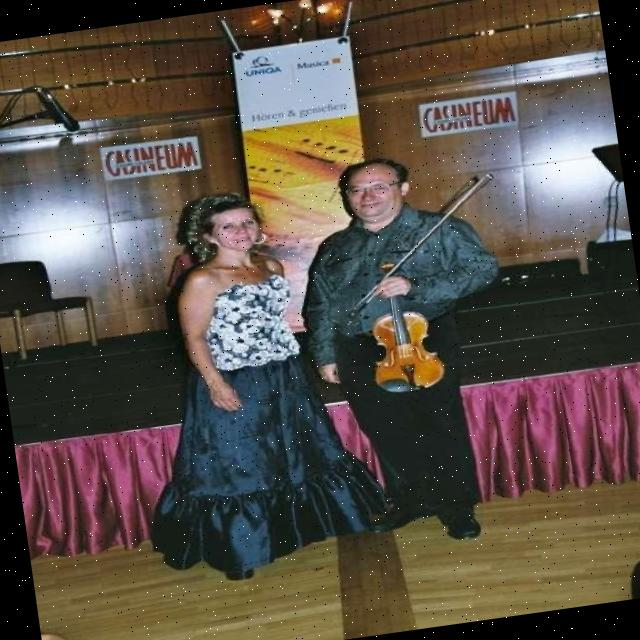violin: (358, 250, 461, 396)
